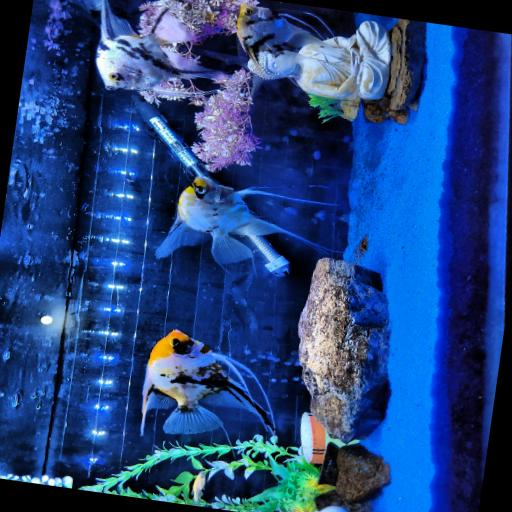Fish: (156, 177, 338, 262), (141, 329, 272, 434), (97, 0, 228, 96), (237, 3, 321, 62), (193, 471, 206, 503)
